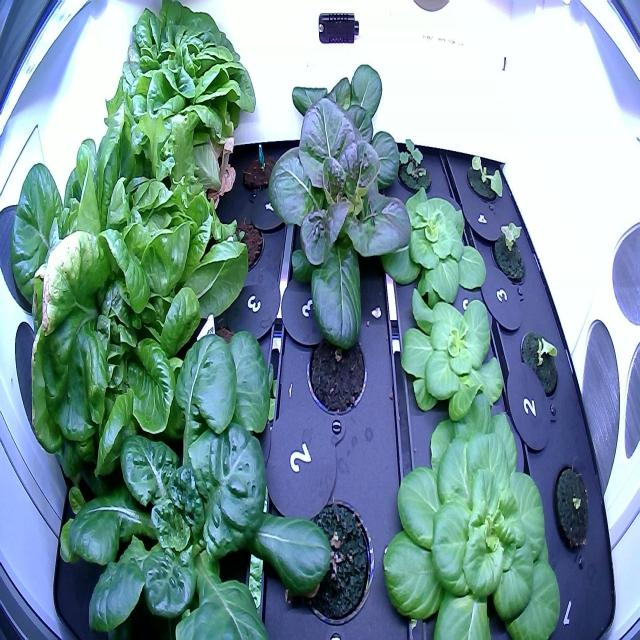Ready: (7, 128, 259, 480), (96, 1, 261, 208)
germination: (282, 488, 378, 631), (549, 457, 597, 559), (212, 212, 267, 283), (239, 144, 282, 198)
pod: (300, 322, 370, 428)
young: (54, 314, 342, 638), (376, 388, 566, 636), (270, 97, 419, 361), (262, 54, 404, 208), (390, 282, 512, 436), (374, 176, 495, 312), (514, 324, 565, 410), (488, 214, 530, 293), (462, 149, 508, 211)
